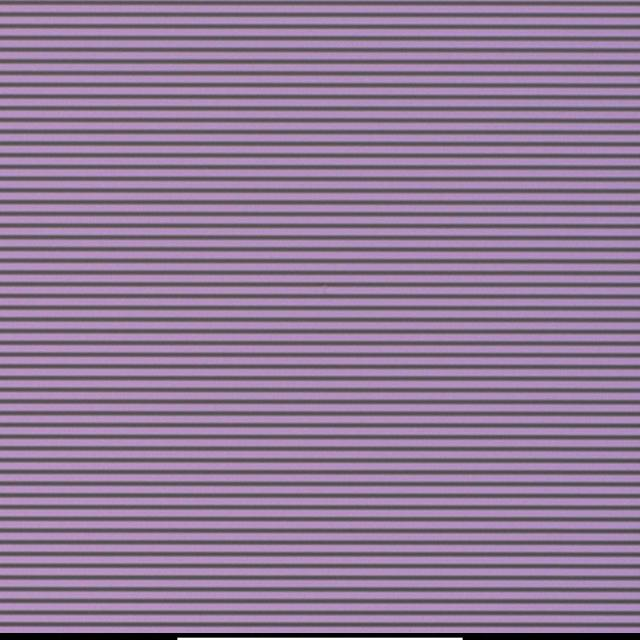03_intrusion: (320, 280, 336, 296)
